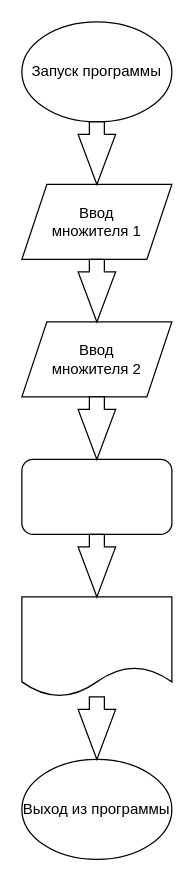
The diagram is 194 pixels wide and 881 high, and some of its shapes have lost their labels. The shapes that lost their labels are listed below. From the top down, each one's centre as x and y in pixels, then its label:
At [96,496]: "Умножение".
At [96,646]: "Вывод результата умножения".
